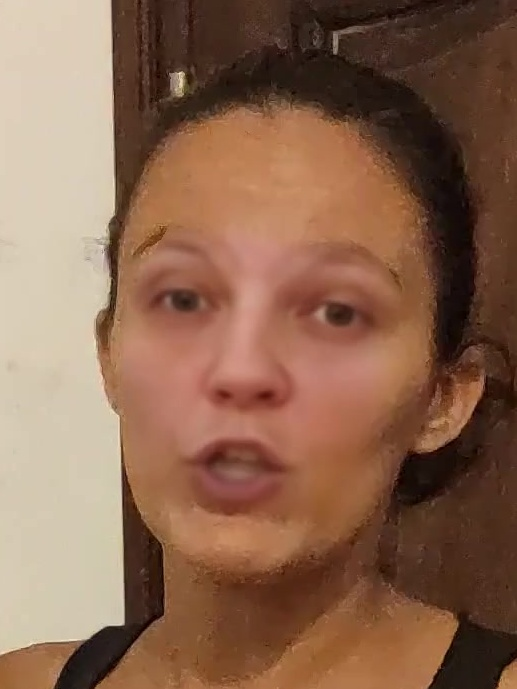eb_f: (120, 211, 410, 355)
